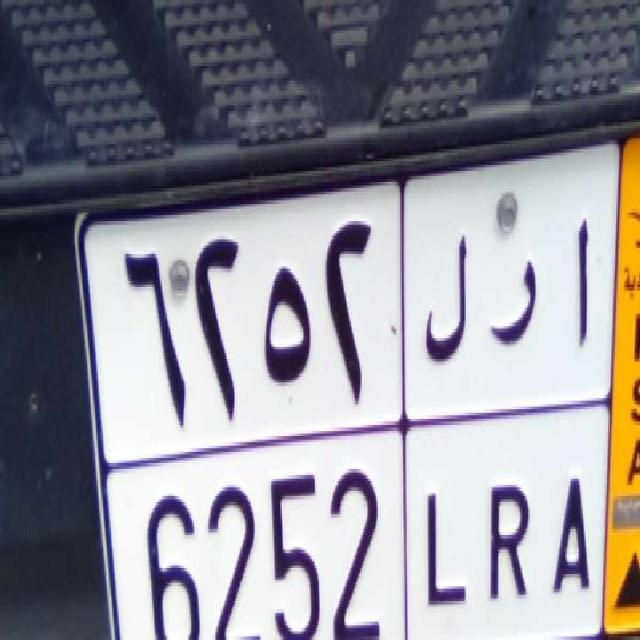license_plate: (127, 425, 604, 640)
